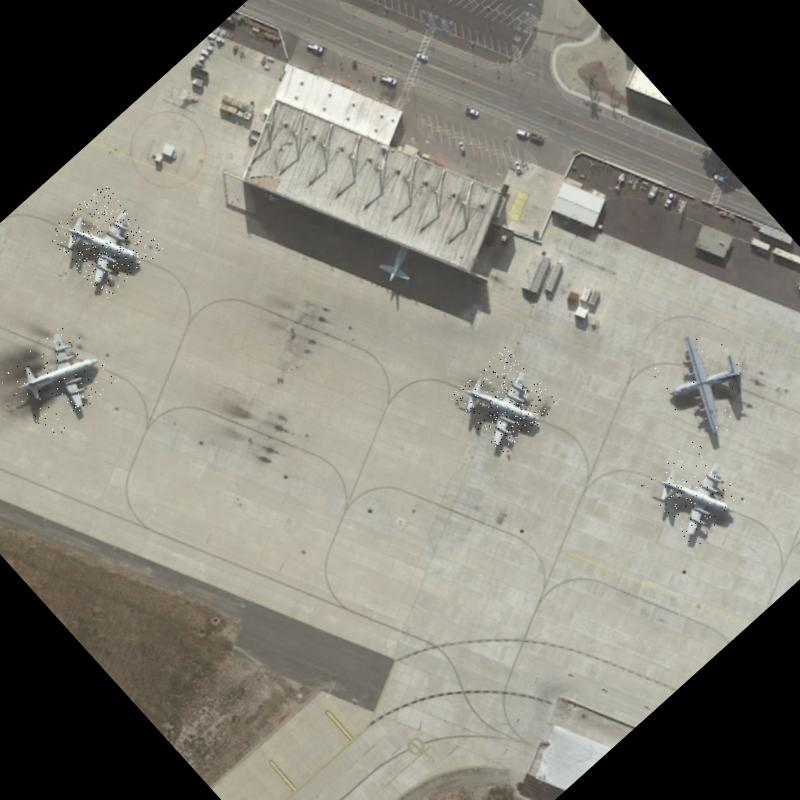A2: (638, 317, 770, 450)
A9: (0, 317, 120, 440), (45, 180, 164, 300), (449, 344, 560, 456), (639, 438, 750, 549)
